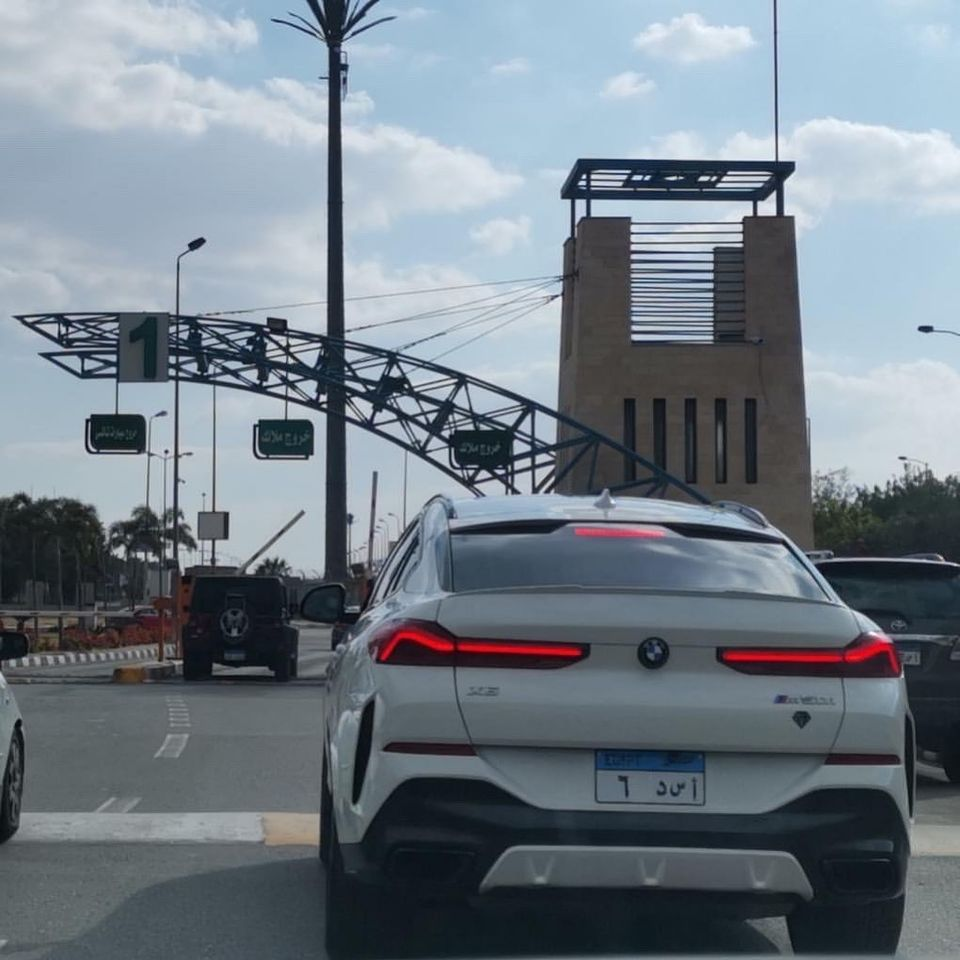carpl: (599, 765, 703, 805)
